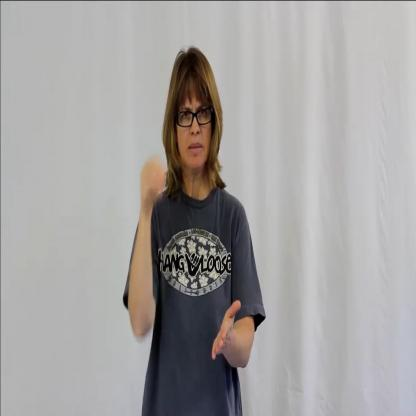Expensive: (126, 44, 264, 416)
